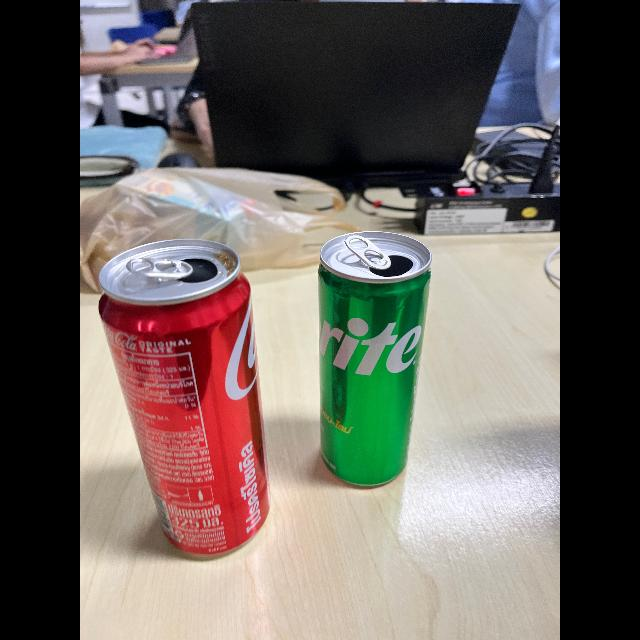can: (98, 238, 282, 562), (304, 221, 458, 481)
